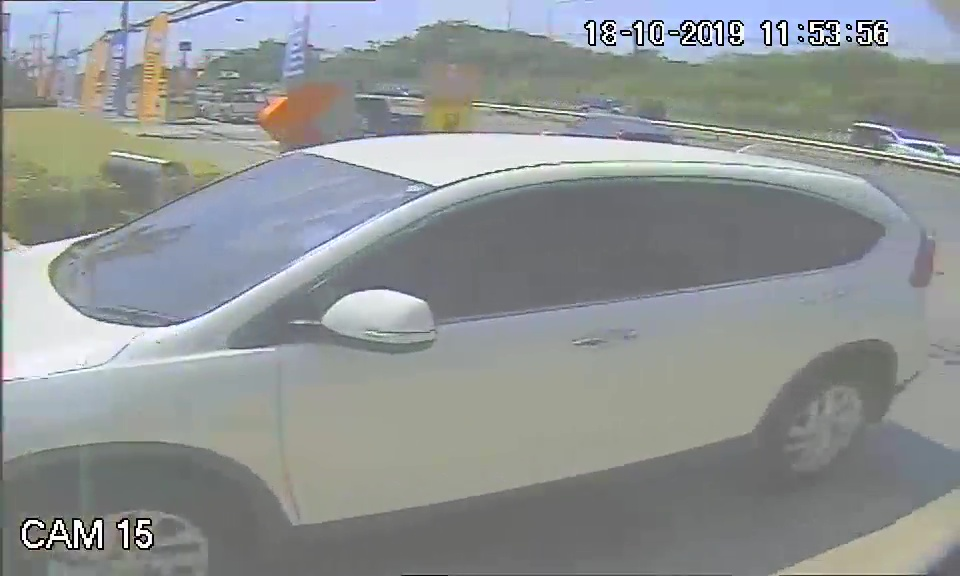pickup: (10, 132, 934, 520)
